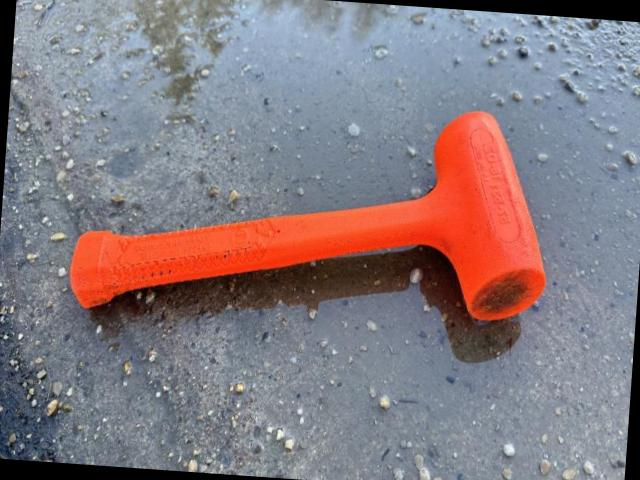hammer: (64, 82, 556, 338)
